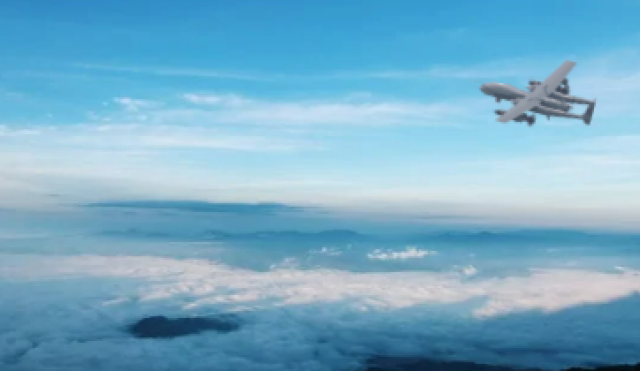military drone: (479, 59, 596, 127)
